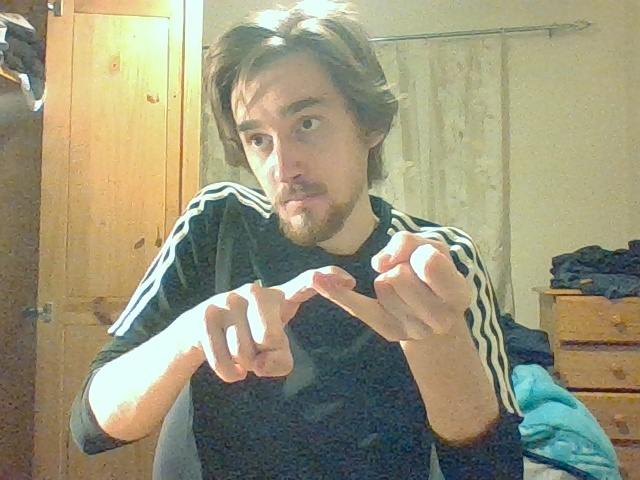step: (204, 230, 473, 377)
